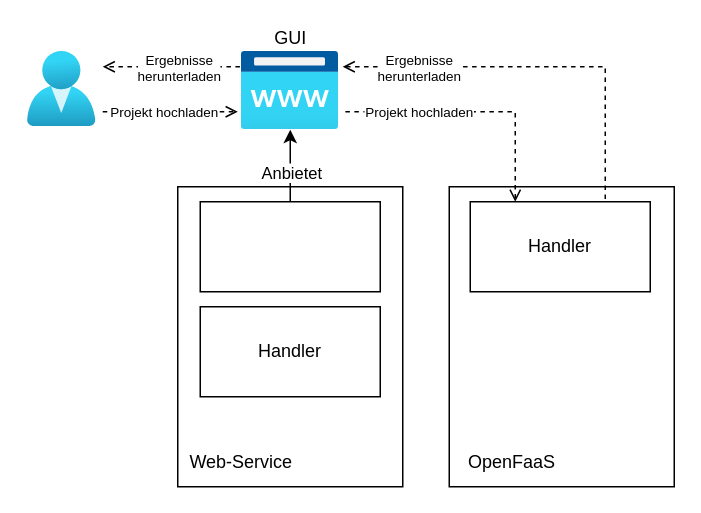
Some shapes in this 701 by 513 pixel diagram are drawn without their labels. The centre of each missing label's shape, as x and y in pixels:
"Benutzer" goes at (61,88).
"Server" goes at (289,246).
